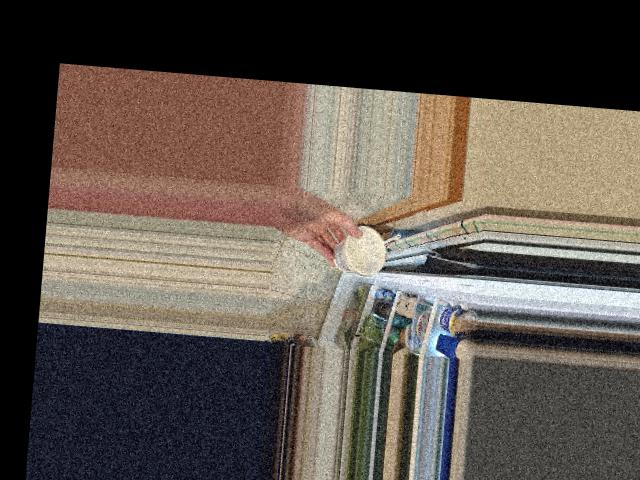cotage: (332, 227, 392, 274)
